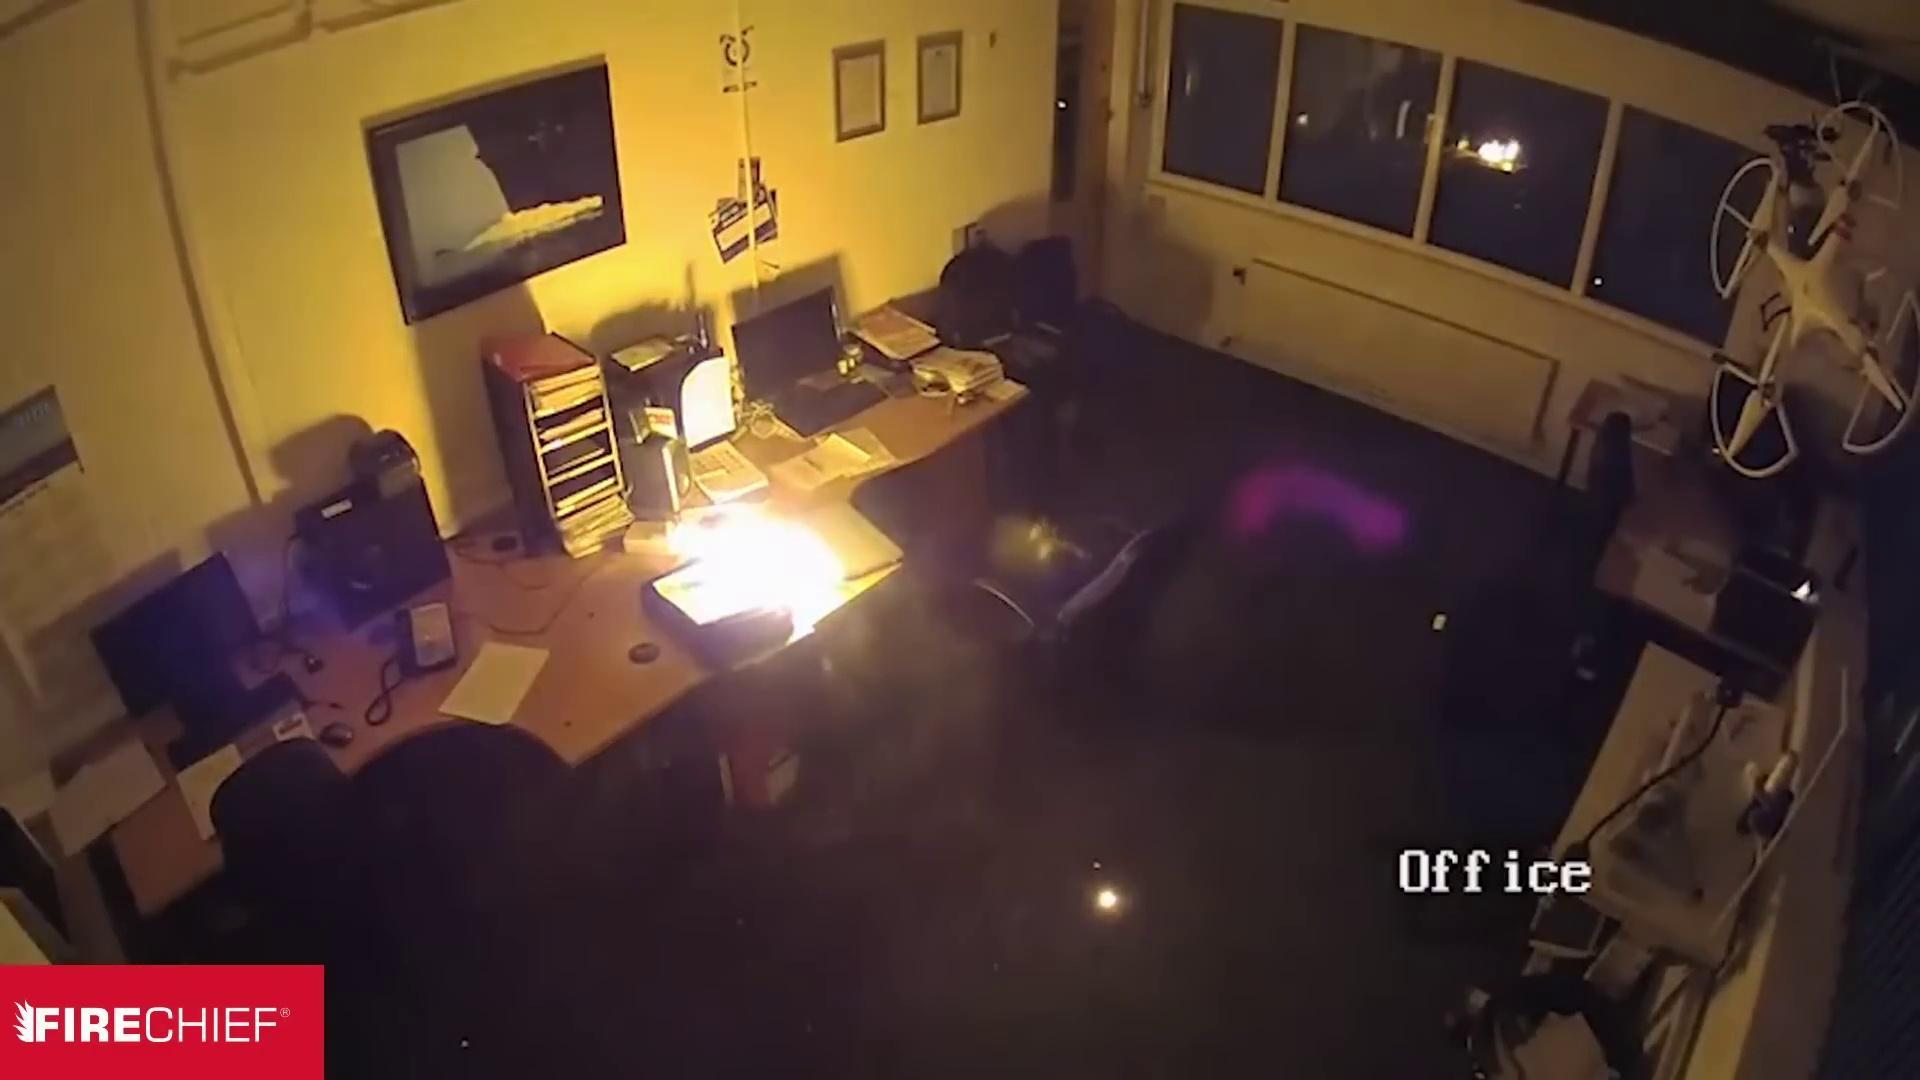fire: (570, 393, 949, 688)
